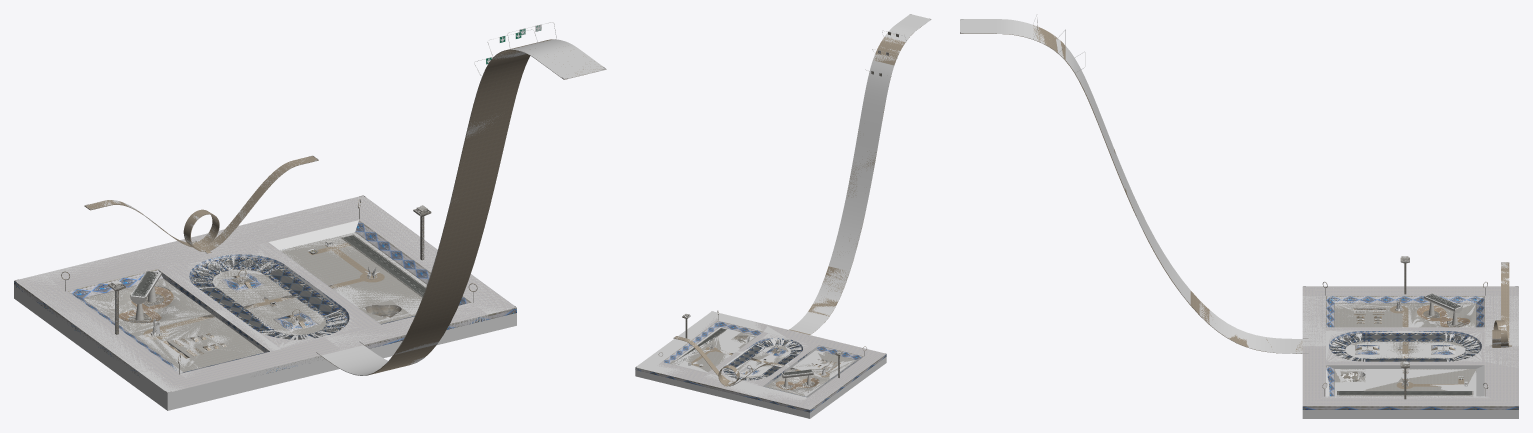
The model's file is world.glb.
The picture shows the model from 3 angles, left to right: view 1: azimuth 30°, elevation 25°; view 2: azimuth 150°, elevation 25°; view 3: azimuth 270°, elevation 25°; orthographic projection. The views are drawn at different scales.
Visible parts, largest first — view 1: Plane, Cube.808, Cube.065, BezierCircle, Cube.011, Cube, BezierCircle.021, Plane.021, Cube.006, Plane.022, Cube.078, Cube.009 (+8 smaller); view 2: Plane, Plane.023, Plane.024, Plane.022, Cube.808, Cube.054, Cube, Plane.021, Cube.055, BezierCircle, Cube.065, BezierCircle.021 (+3 smaller); view 3: Plane, Cube, Plane.022, Plane.021, Cube.808, BezierCircle, Plane.023, Cube.011, BezierCircle.021, Cube.054, Plane.024, Cube.056 (+4 smaller).
Part boxes in pixels (<box>): Plane: <box>14,196,516,390</box>; Cube.808: <box>321,39,602,375</box>; Cube.065: <box>14,273,196,410</box>; BezierCircle: <box>84,279,210,332</box>; Cube.011: <box>180,348,340,403</box>; Cube: <box>337,196,516,332</box>; BezierCircle.021: <box>84,156,318,251</box>; Plane.021: <box>490,39,606,79</box>; Cube.006: <box>326,302,488,358</box>; Plane.022: <box>321,341,438,375</box>; Cube.078: <box>158,267,280,352</box>; Cube.009: <box>340,234,425,297</box>; Plane: <box>635,317,886,412</box>; Plane.023: <box>828,145,876,271</box>; Plane.024: <box>856,60,894,150</box>; Plane.022: <box>789,268,849,334</box>; Cube.808: <box>789,26,921,334</box>; Cube.054: <box>722,380,807,415</box>; Cube: <box>635,311,725,379</box>; Plane.021: <box>873,14,931,61</box>; Cube.055: <box>649,364,734,397</box>; BezierCircle: <box>766,369,829,396</box>; Cube.065: <box>795,357,886,418</box>; BezierCircle.021: <box>673,336,784,386</box>; Plane: <box>1302,286,1518,409</box>; Cube: <box>1302,396,1518,418</box>; Plane.022: <box>1199,300,1302,353</box>; Plane.021: <box>960,19,1064,59</box>; Cube.808: <box>960,25,1302,353</box>; BezierCircle: <box>1409,303,1476,327</box>; Plane.023: <box>1114,151,1190,304</box>; Cube.011: <box>1302,296,1325,346</box>; BezierCircle.021: <box>1492,262,1509,347</box>; Cube.054: <box>1484,296,1518,346</box>; Plane.024: <box>1065,46,1113,161</box>; Cube.056: <box>1365,376,1476,396</box>.
Size of what is drawn, in the model's own units: 424 by 555 by 833.
Materials: 18 (18 with a texture image).
